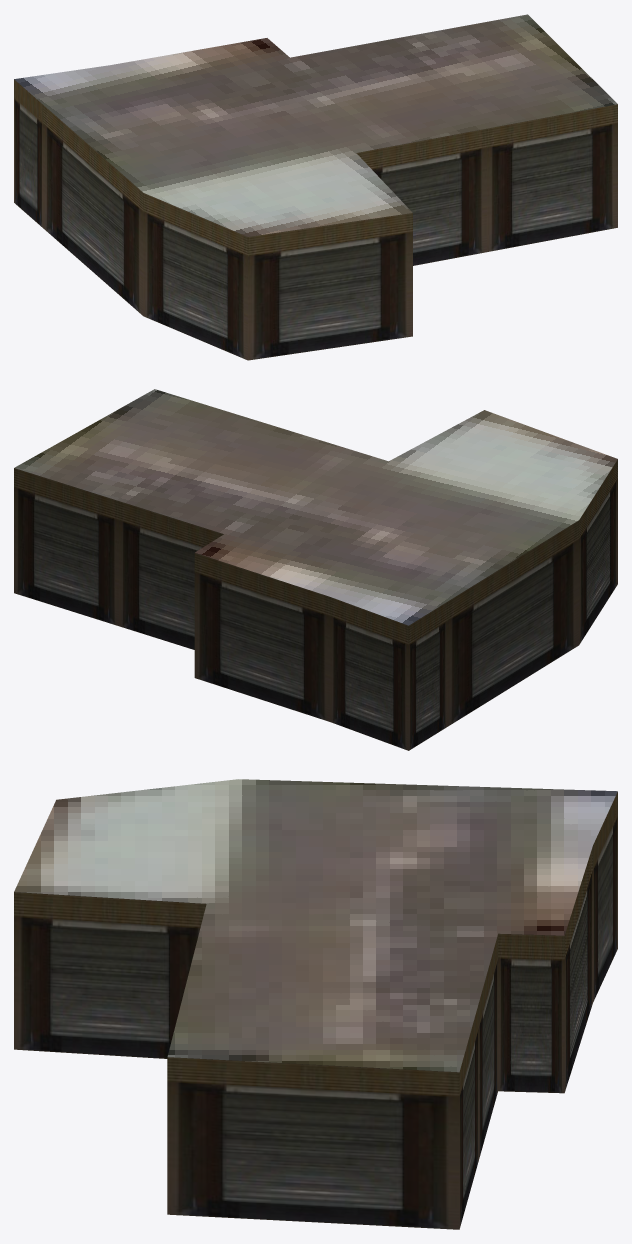
The model's file is T_1SXP74NVEU.dae.
3 views of the same model, one above another, from view 1: azimuth 30°, elevation 25°; view 2: azimuth 150°, elevation 25°; view 3: azimuth 270°, elevation 25° (orthographic). The views are drawn at different scales.
Parts seen in each view (by area): view 1: SketchUp (×6); view 2: SketchUp (×7); view 3: SketchUp (×7).
Part boxes in pixels (x1,y1,x2,y2): SketchUp (×6): (14,14,617,360); SketchUp (×7): (14,389,617,750); SketchUp (×7): (14,779,617,1229).
Size of the model in its own units: 13.09 by 11.4 by 3.28.
Materials: 2 (2 with a texture image).
